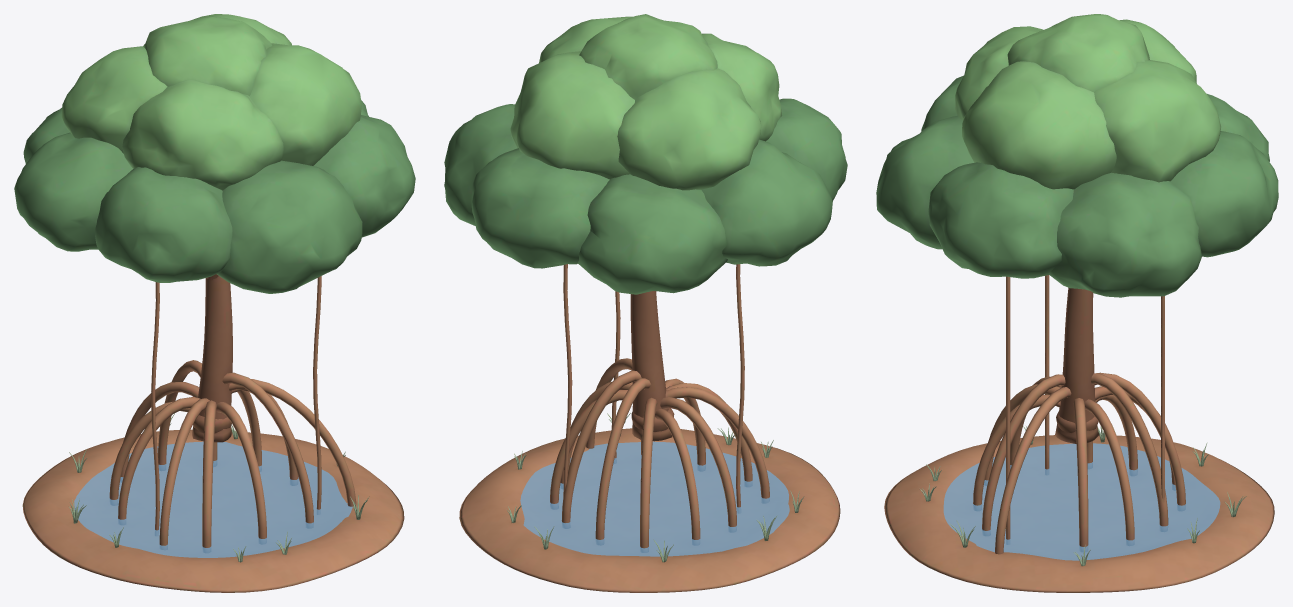
File: grab3d-mangrove-tree.glb
3 views of the same model, side by side, from view 1: azimuth 30°, elevation 25°; view 2: azimuth 150°, elevation 25°; view 3: azimuth 270°, elevation 25° (orthographic).
Parts seen in each view (by area): view 1: mangrove-tree_body, mangrove-tree_water; view 2: mangrove-tree_body, mangrove-tree_water; view 3: mangrove-tree_body, mangrove-tree_water.
Boxes of the visible parts, <box> form: mangrove-tree_body: <box>14,14,415,592</box>; mangrove-tree_water: <box>74,441,352,557</box>; mangrove-tree_body: <box>444,14,847,592</box>; mangrove-tree_water: <box>520,441,789,556</box>; mangrove-tree_body: <box>876,14,1278,592</box>; mangrove-tree_water: <box>943,443,1220,560</box>.
Bounding box in the file's own units: 4.4 × 5.74 × 4.28.
2 materials, 1 textured.
